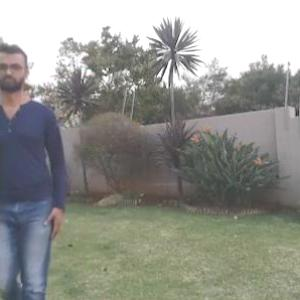follow: (1, 58, 61, 299)
